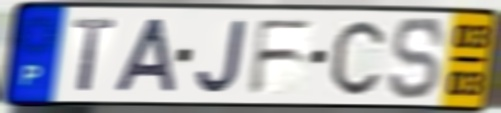A: (111, 16, 179, 95)
C: (329, 18, 387, 98)
F: (246, 17, 317, 98)
J: (193, 17, 249, 96)
S: (387, 14, 448, 102)
T: (70, 16, 120, 95)
